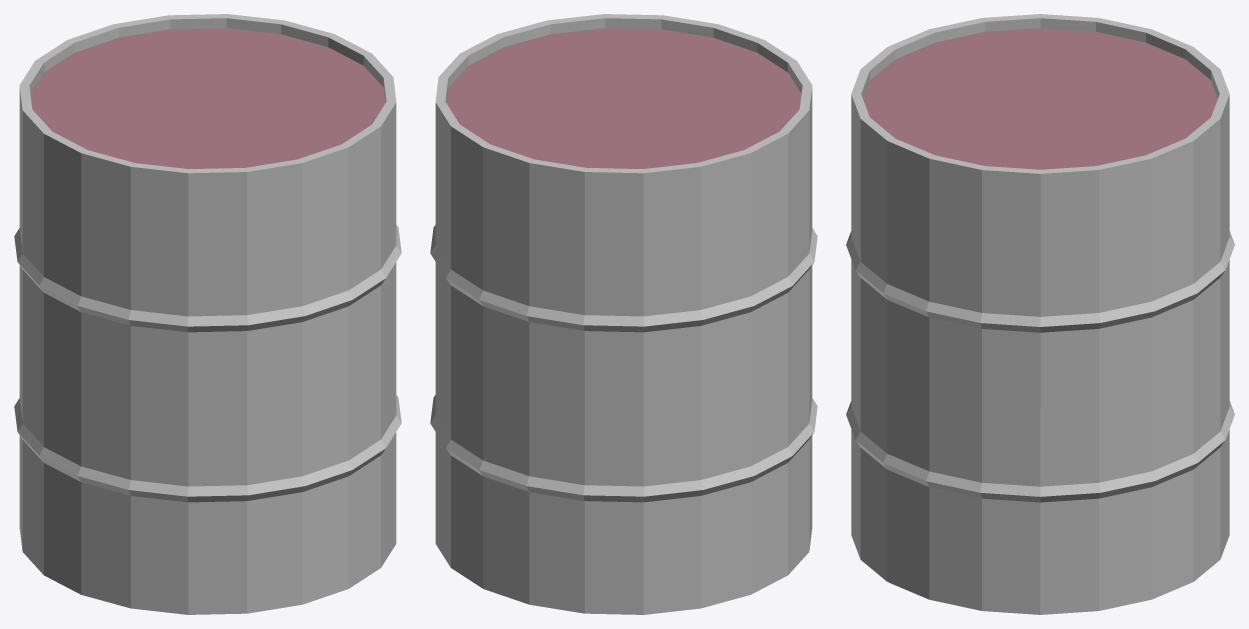
Rendered from barrel.fbx.
3 renders of one model, left to right at view 1: azimuth 30°, elevation 25°; view 2: azimuth 150°, elevation 25°; view 3: azimuth 270°, elevation 25°, orthographic.
Visible parts, largest first — view 1: Cylinder002; view 2: Cylinder002; view 3: Cylinder002.
Boxes of the visible parts, box(x1,y1,x2,y2) form: Cylinder002: box(14, 14, 401, 614); Cylinder002: box(430, 14, 817, 614); Cylinder002: box(846, 14, 1234, 614).
Bounding box in the file's own units: 100 × 126 × 100.
